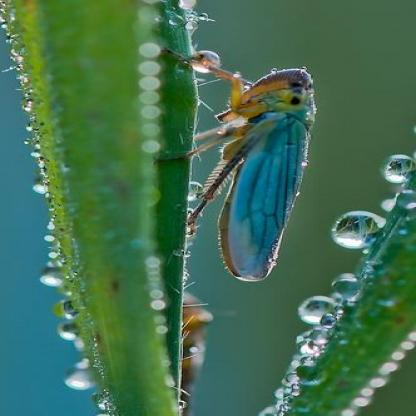Green-Leafhopper: (192, 49, 322, 277), (150, 278, 226, 416)
